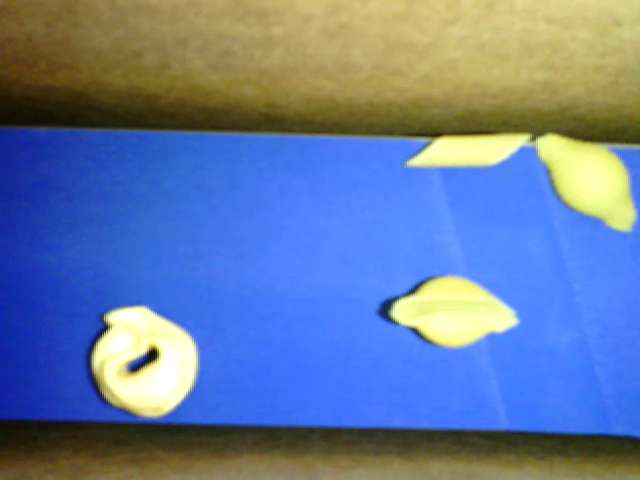penne: (406, 132, 532, 167)
shell: (535, 131, 638, 233), (390, 271, 520, 348)
tortellini: (89, 304, 199, 419)
